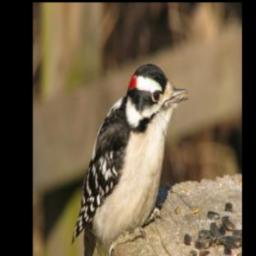Woodpecker: (70, 64, 191, 256)
